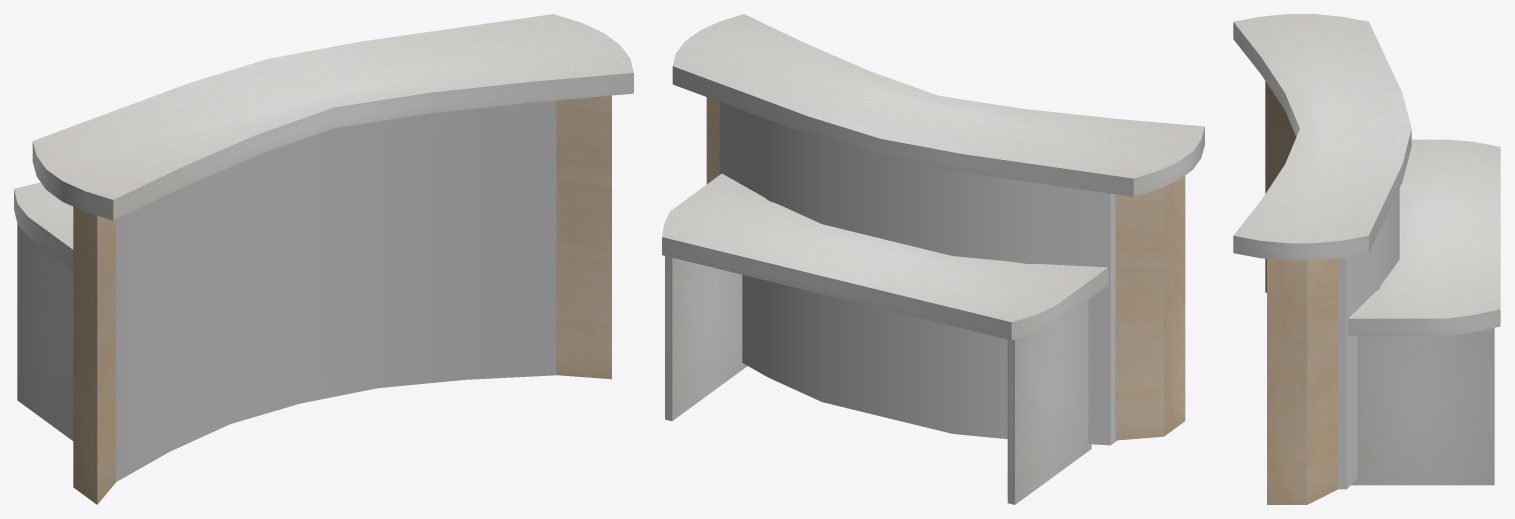
The model's file is reception.FBX.
3 views of the same model, side by side, from view 1: azimuth 30°, elevation 25°; view 2: azimuth 150°, elevation 25°; view 3: azimuth 270°, elevation 25° (orthographic). The views are drawn at different scales.
Parts seen in each view (by area): view 1: Box001, Box003, Box002, Box006, Box004; view 2: Box007, Box003, Box004, Box002, Box006, Box005; view 3: Box003, Box004, Box005, Box002, Box007.
Boxes of the visible parts, left/top/right/bottom form: Box001: left=116, top=100, right=556, bottom=481; Box003: left=32, top=14, right=633, bottom=220; Box002: left=73, top=95, right=611, bottom=504; Box006: left=17, top=224, right=73, bottom=440; Box004: left=14, top=182, right=73, bottom=269; Box007: left=719, top=102, right=1115, bottom=445; Box003: left=672, top=14, right=1204, bottom=196; Box004: left=662, top=173, right=1108, bottom=340; Box002: left=706, top=97, right=1185, bottom=440; Box006: left=1007, top=300, right=1091, bottom=504; Box005: left=665, top=256, right=747, bottom=421; Box003: left=1233, top=14, right=1411, bottom=260; Box004: left=1348, top=139, right=1500, bottom=335; Box005: left=1351, top=328, right=1494, bottom=485; Box002: left=1265, top=81, right=1337, bottom=504; Box007: left=1338, top=188, right=1399, bottom=489.
Bounding box in the file's own units: 50.14 × 28.22 × 24.72.
